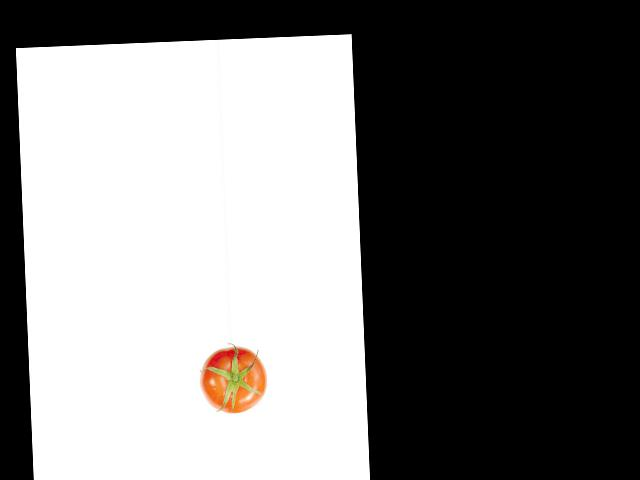tomato: (198, 345, 268, 415)
